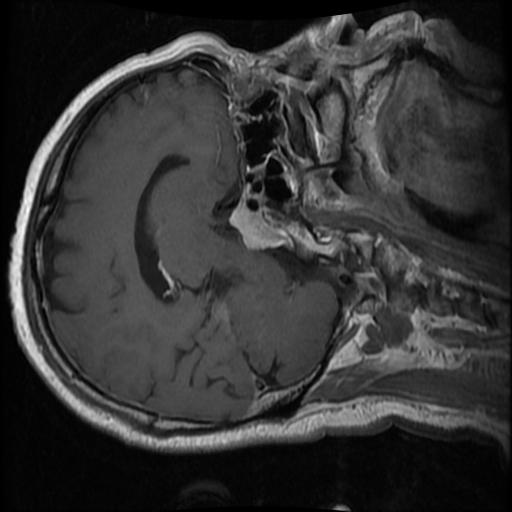meningioma: (228, 198, 292, 251)
